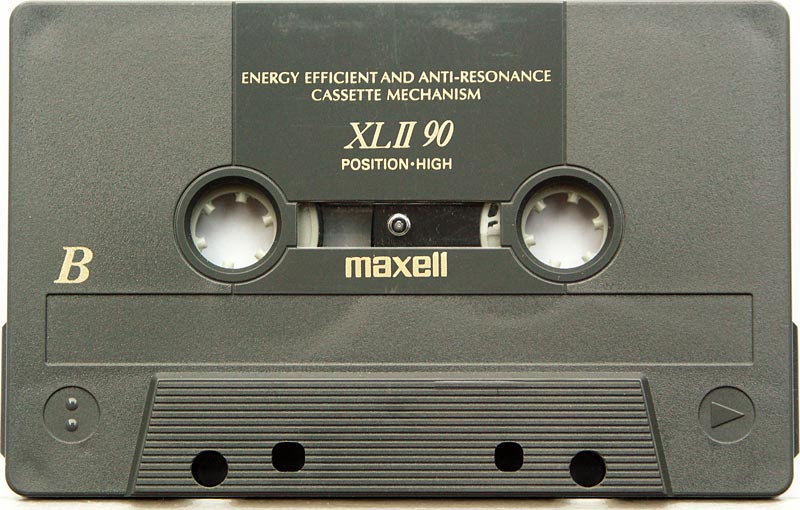Nonrec_Other: (7, 5, 787, 493)
